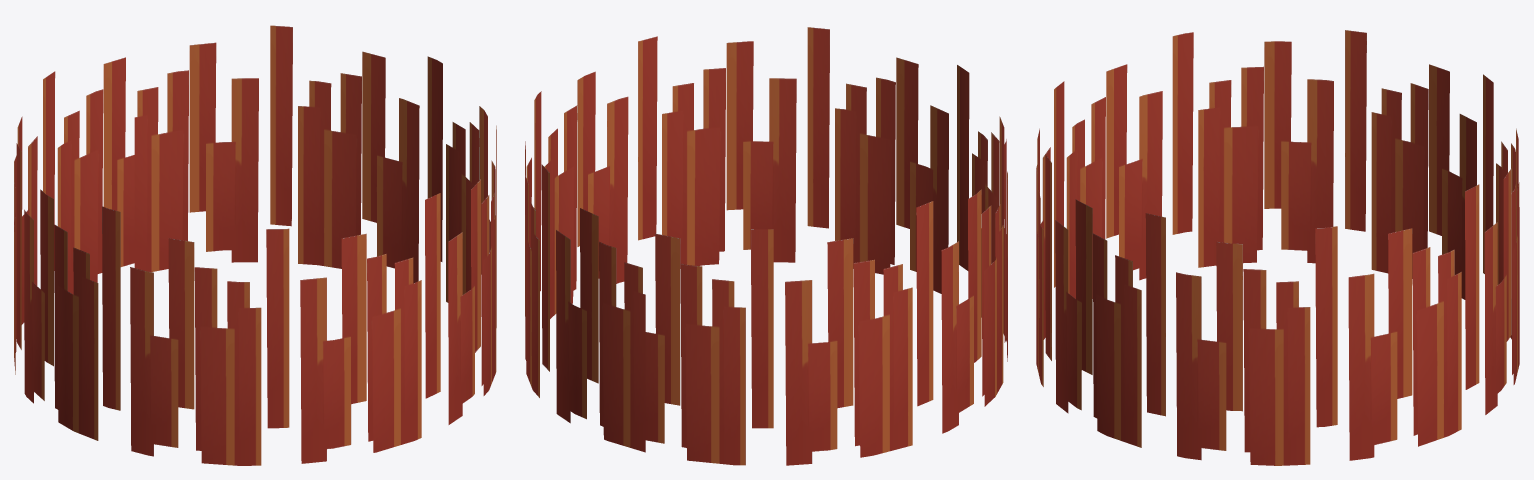
The model's file is mdl_bg.fbx.
3 renders of one model, left to right at view 1: azimuth 30°, elevation 25°; view 2: azimuth 150°, elevation 25°; view 3: azimuth 270°, elevation 25°, orthographic.
Visible parts, largest first — view 1: mdl_bg; view 2: mdl_bg; view 3: mdl_bg.
Part boxes in pixels (box(x1,y1,x2,y2)): mdl_bg: box(14, 25, 496, 465); mdl_bg: box(525, 27, 1007, 465); mdl_bg: box(1036, 30, 1519, 465).
Size of the model in its own units: 475 by 268 by 475.
